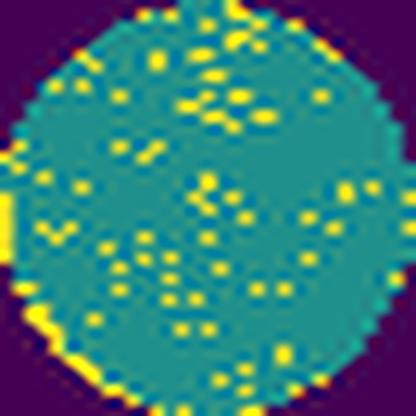Edge-Loc: (20, 298, 142, 408), (0, 186, 18, 273)
